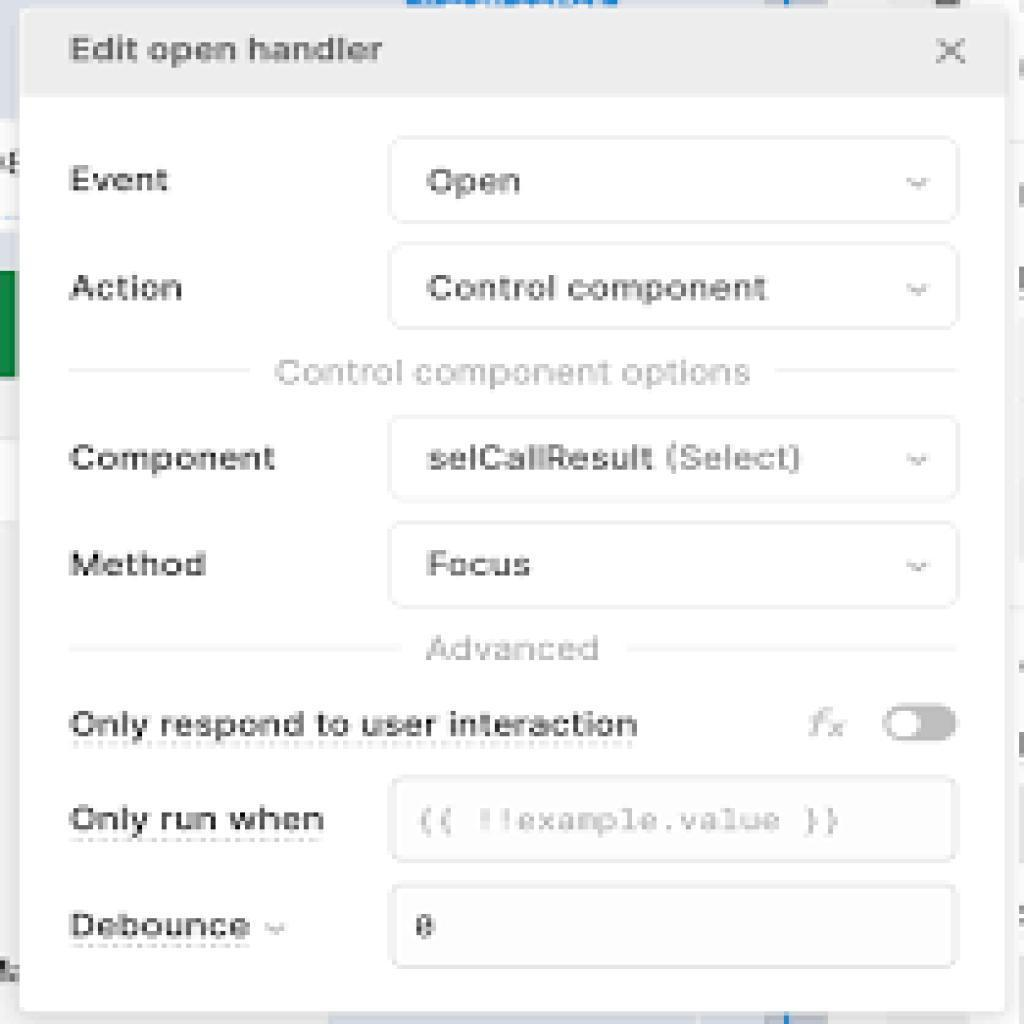dropdown: (393, 418, 956, 505), (390, 522, 958, 607), (391, 139, 956, 224), (392, 248, 959, 326)
input: (392, 774, 958, 856), (396, 884, 961, 966)
switch: (883, 699, 965, 747)
